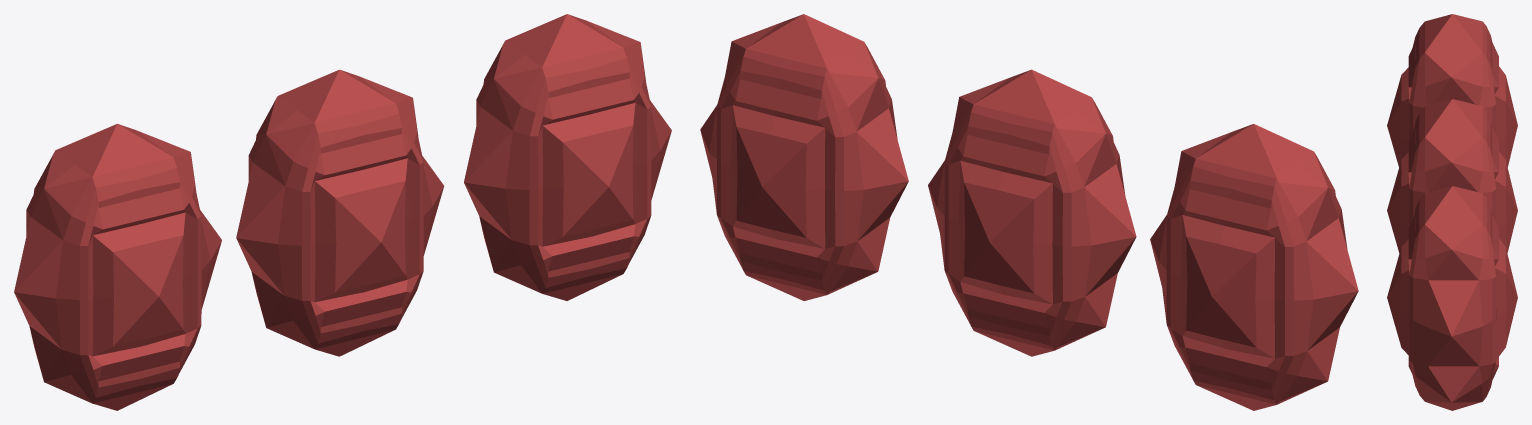
The model's file is red gems.fbx.
The picture shows the model from 3 angles, left to right: view 1: azimuth 30°, elevation 25°; view 2: azimuth 150°, elevation 25°; view 3: azimuth 270°, elevation 25°; orthographic projection. The views are drawn at different scales.
Parts seen in each view (by area): view 1: pCube10; view 2: pCube10; view 3: pCube10.
Boxes of the visible parts, <box> form: pCube10: <box>14,14,671,410</box>; pCube10: <box>700,14,1358,410</box>; pCube10: <box>1387,14,1517,410</box>.
Bounding box in the file's own units: 5.67 × 2.36 × 1.25.
